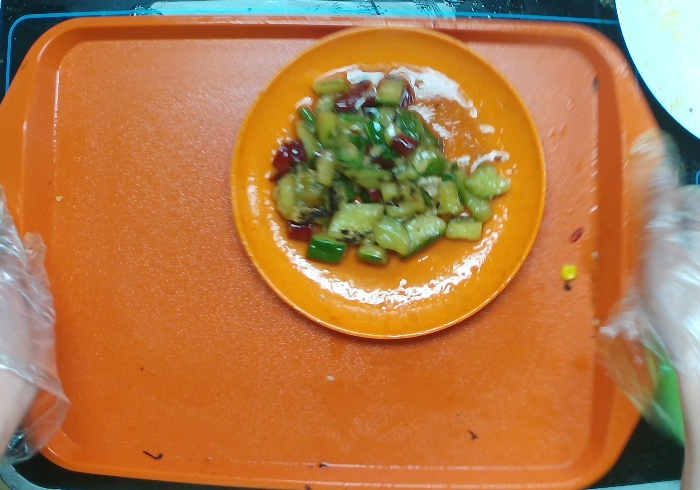HZYJPL-Ju_Huang_Yuan_Pan: (228, 23, 547, 340)
